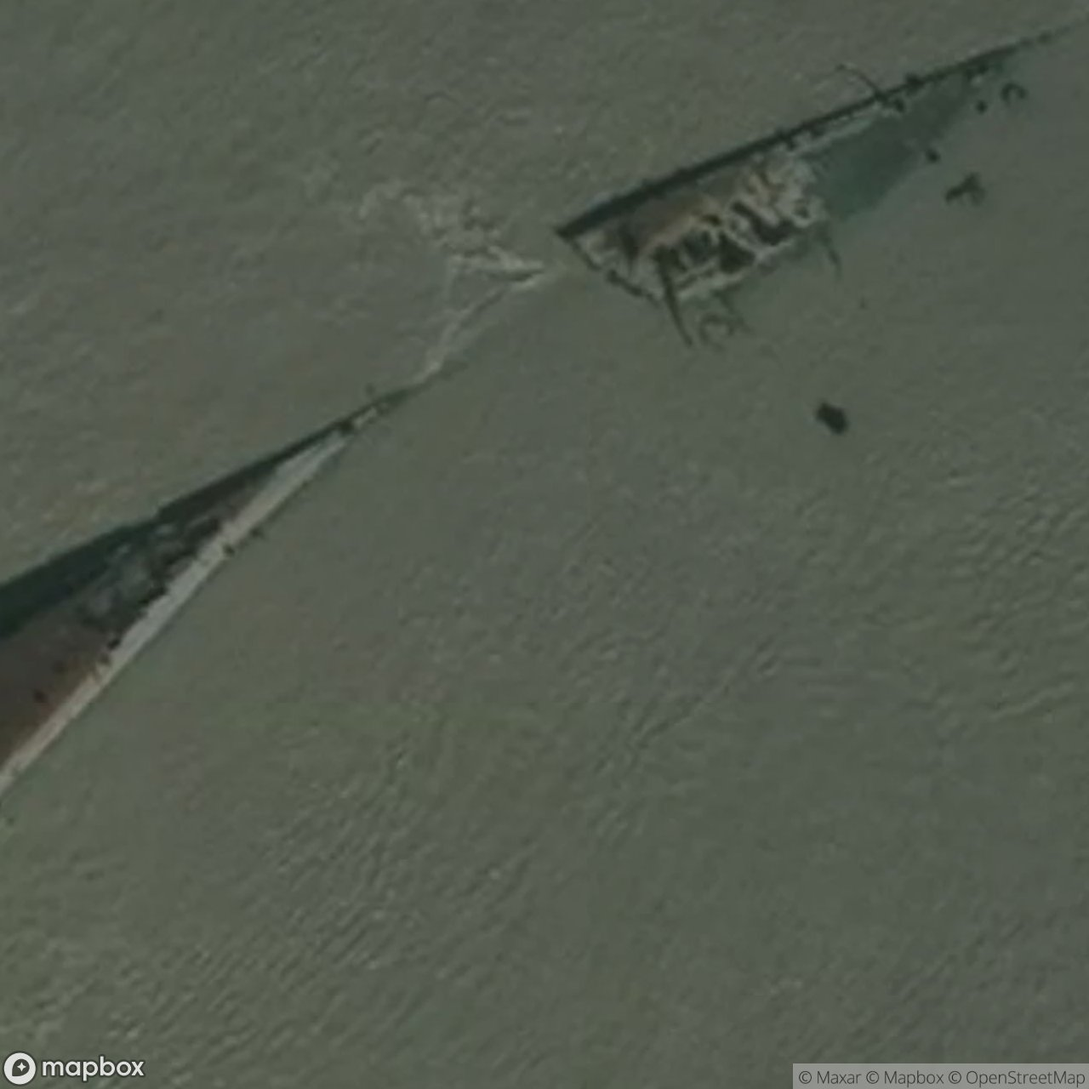Wreck: (0, 483, 1056, 714)
